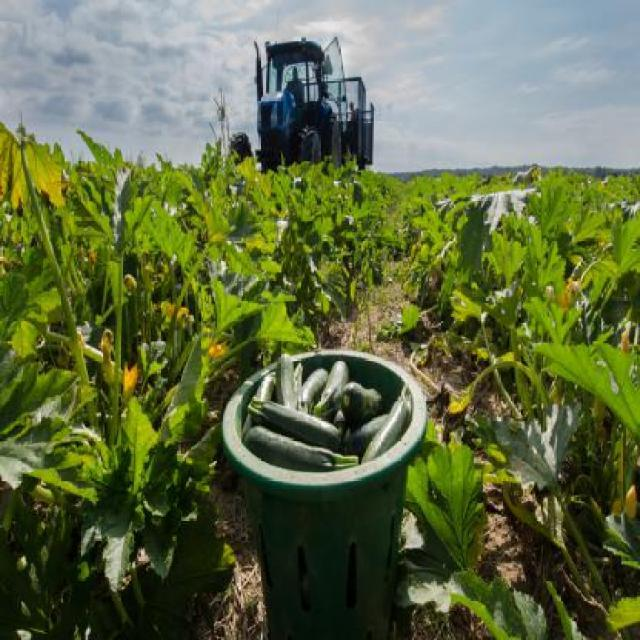Zucchini: (236, 352, 414, 474), (246, 385, 345, 453)
